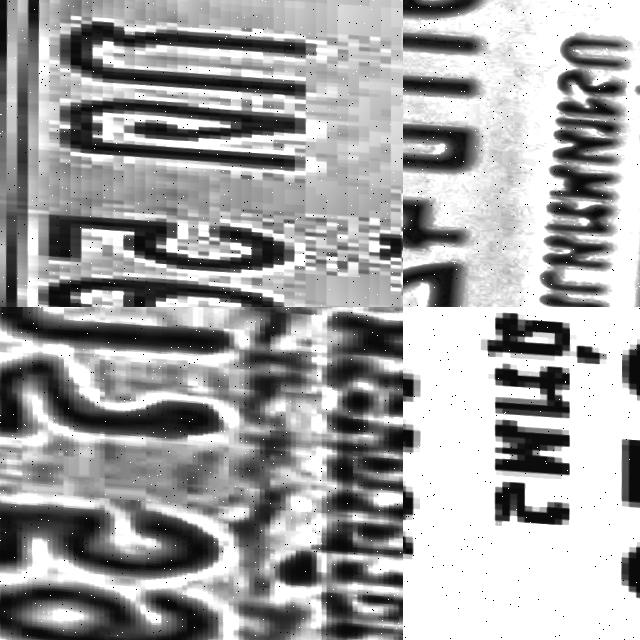license-plate: (0, 307, 403, 640), (0, 0, 403, 307), (403, 307, 640, 640), (403, 0, 640, 307)
